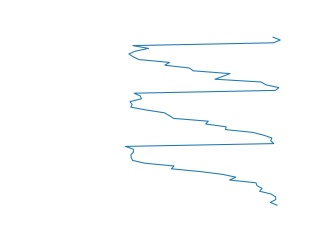distributaryMouthBar: (123, 34, 283, 208)
